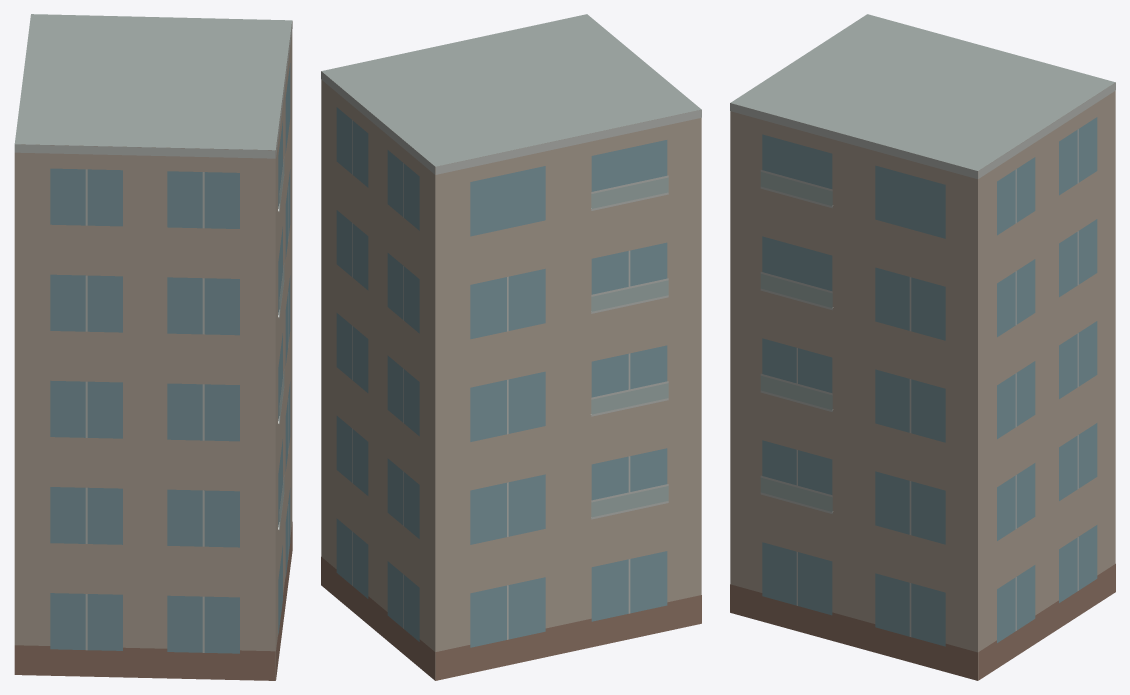
The model's file is survey-upis-32556451.glb.
3 views of the same model, side by side, from view 1: azimuth 30°, elevation 25°; view 2: azimuth 150°, elevation 25°; view 3: azimuth 270°, elevation 25° (orthographic). The views are drawn at different scales.
Visible parts, largest first — view 1: survey-upis-32556451.tmp; view 2: survey-upis-32556451.tmp; view 3: survey-upis-32556451.tmp.
Boxes of the visible parts, <box> form: survey-upis-32556451.tmp: <box>14,14,292,680</box>; survey-upis-32556451.tmp: <box>321,14,701,680</box>; survey-upis-32556451.tmp: <box>730,14,1115,680</box>.
Bounding box in the file's own units: 10.09 × 15.25 × 10.46.
